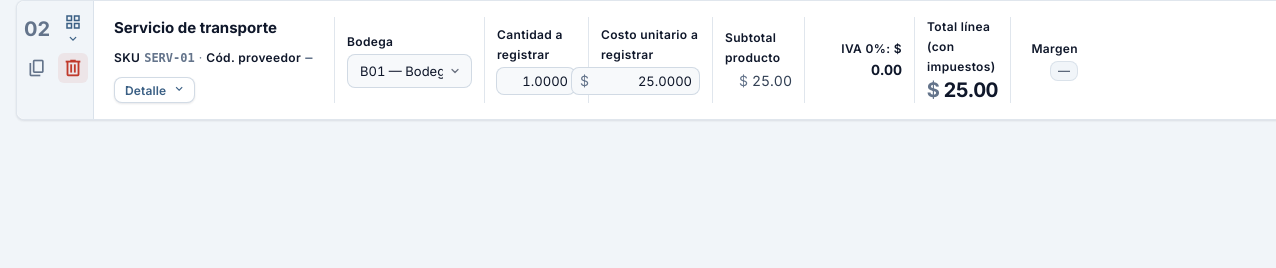
Test: PurchaseLineCard — layout compacto › compra manual: sin valores XML de relleno, sin ICE en cabecera y aviso de datos comerciales vacíos
Click the button "Detalle".
click(154, 90)  # box [114, 77, 195, 103]
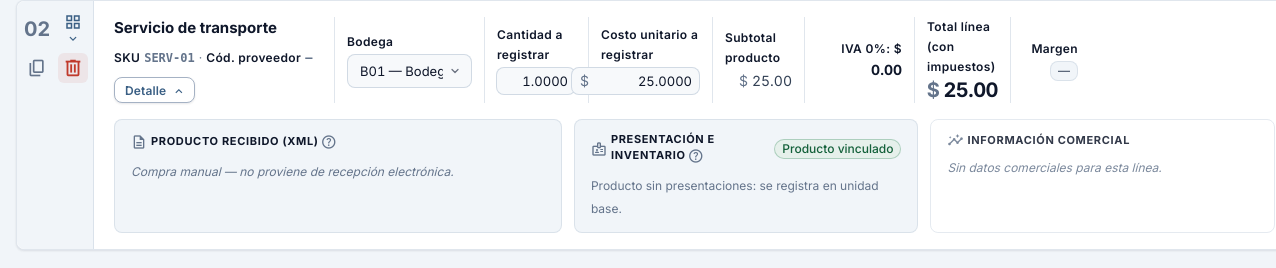
Now the text "Compra manual — no proviene de recepción electrónica." is shown, box [131, 164, 454, 179]
Now the text "Sin datos comerciales para esta línea." is shown, box [948, 160, 1162, 175]
